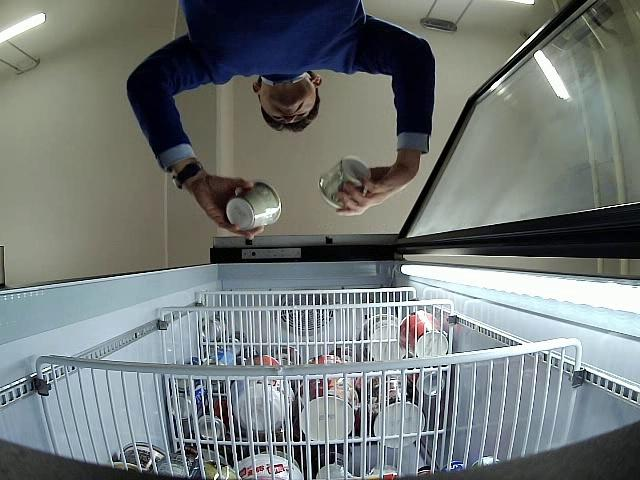00_hand: (335, 160, 420, 216), (193, 173, 264, 239)
04_chapagetti_S: (226, 181, 282, 230), (319, 157, 370, 209)
